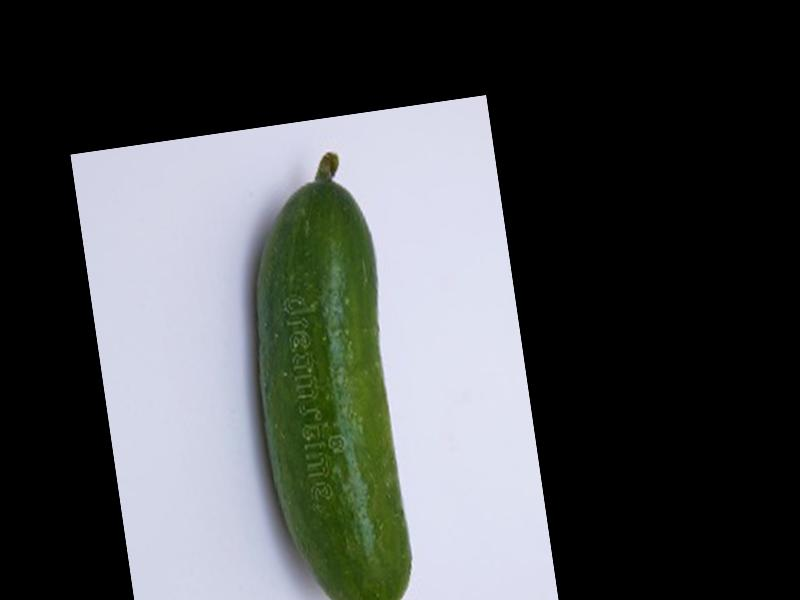Cucumber: (227, 148, 425, 600)
